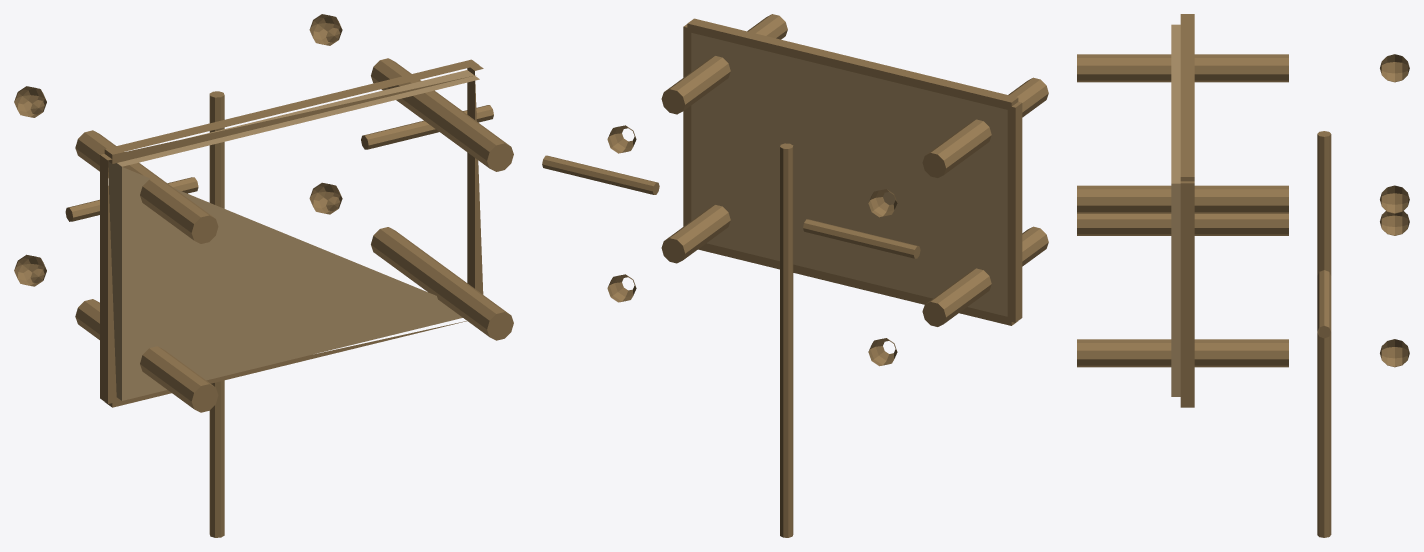
Rendered from table.glb.
The picture shows the model from 3 angles, left to right: view 1: azimuth 30°, elevation 25°; view 2: azimuth 150°, elevation 25°; view 3: azimuth 270°, elevation 25°; orthographic projection. The views are drawn at different scales.
Visible parts, largest first — view 1: geometry_0; view 2: geometry_0; view 3: geometry_0.
Boxes of the visible parts, box(x1,y1,x2,y2) form: geometry_0: box(14, 14, 513, 537); geometry_0: box(542, 14, 1048, 537); geometry_0: box(1077, 14, 1409, 537).
Bounding box in the file's own units: 1.03 × 1.03 × 0.707.
